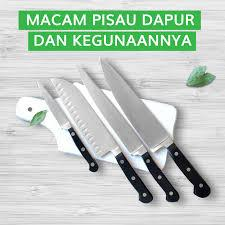knives: (34, 55, 213, 217)
